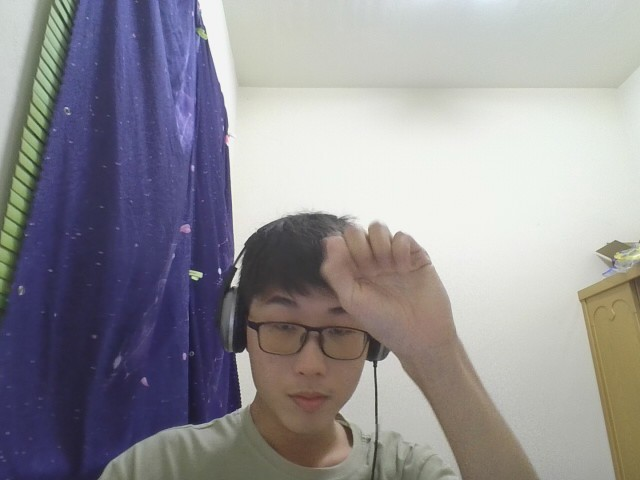No_Gloves: (320, 215, 460, 360)
No_Helmet: (222, 210, 381, 452)
person: (22, 196, 597, 480)
